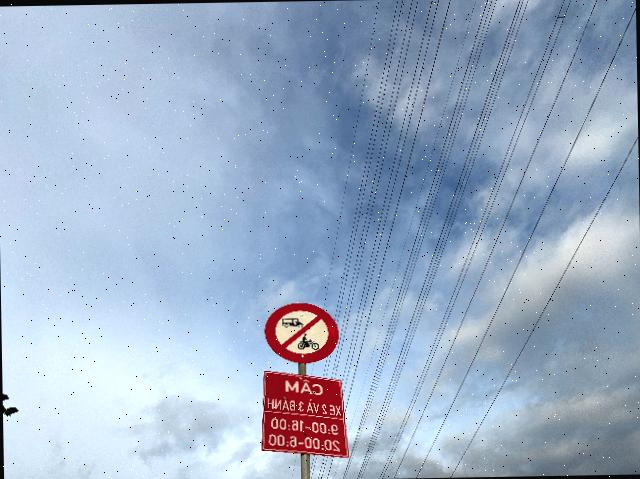cam-xe-2-banh-3-banh: (264, 302, 340, 364)
